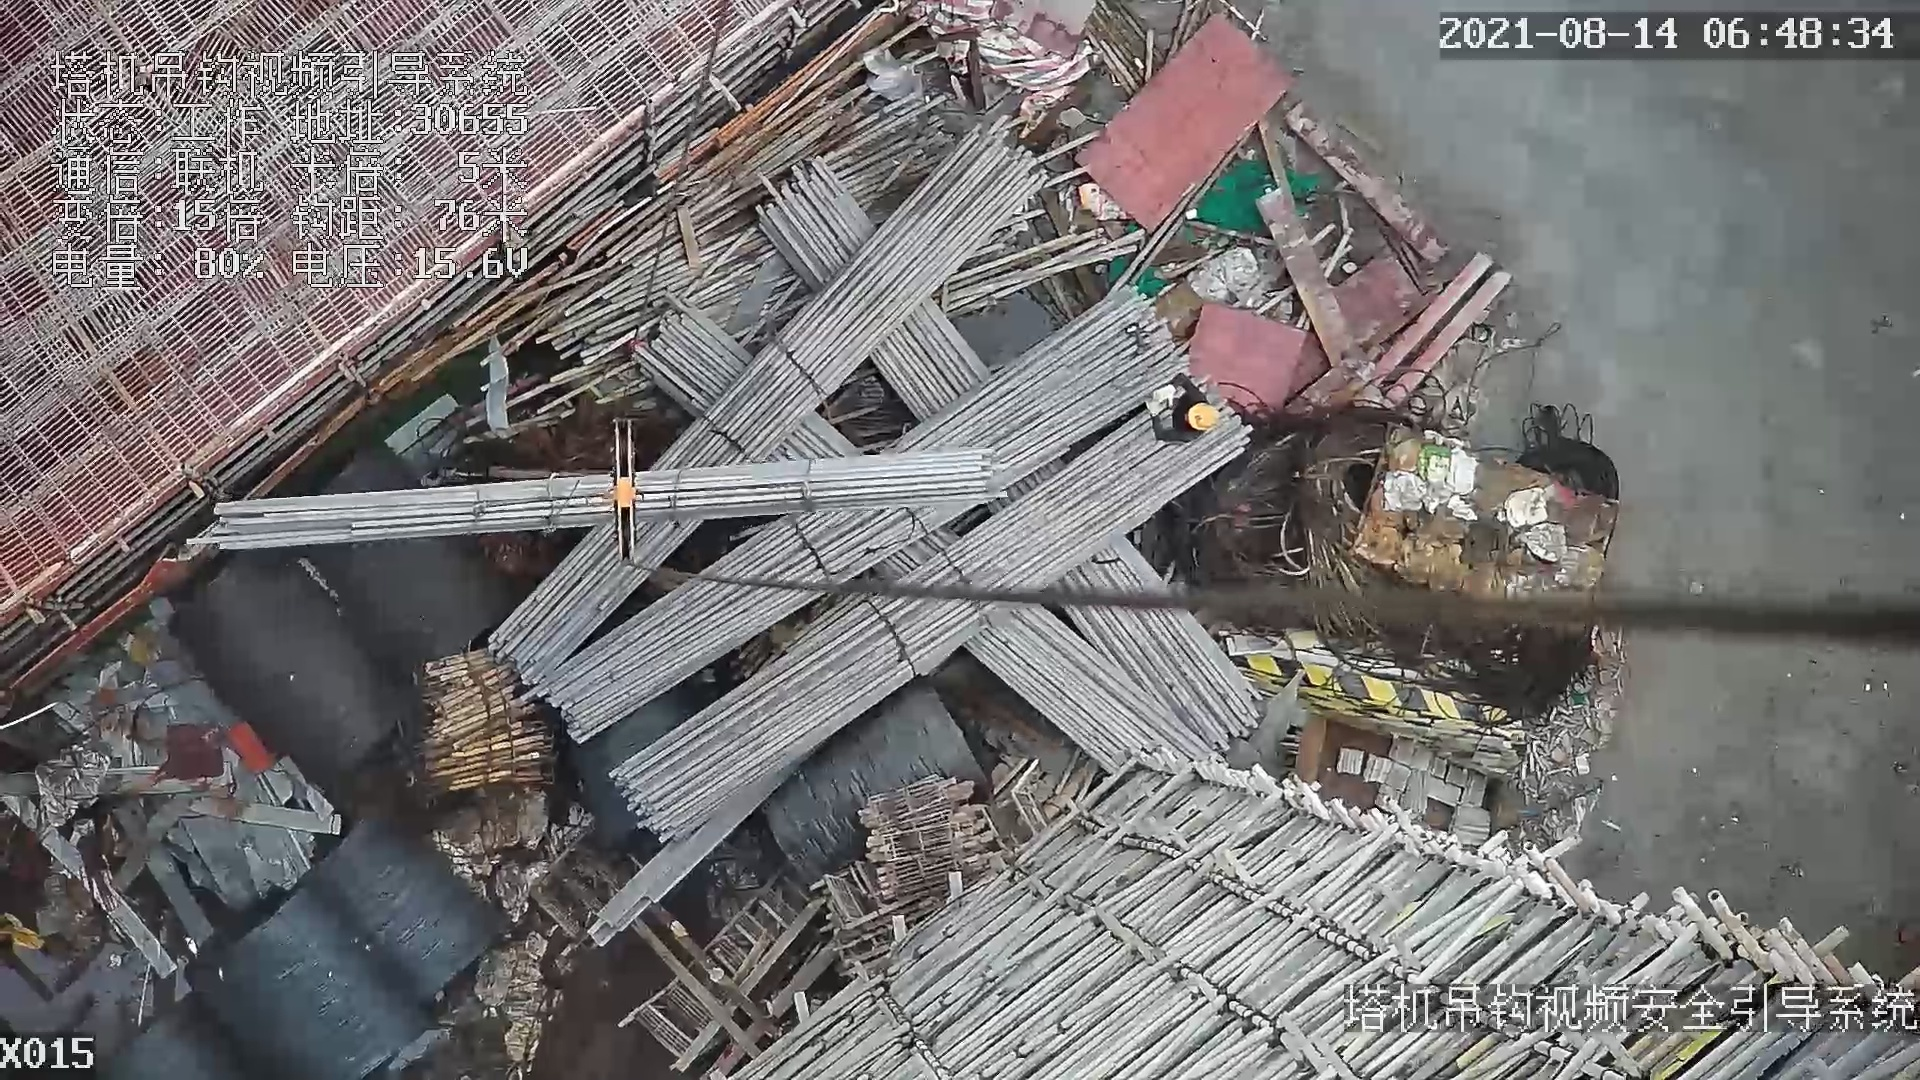board: (1069, 9, 1304, 220)
helmet: (1186, 400, 1222, 432)
hook: (609, 419, 637, 569)
person: (1141, 371, 1222, 442)
scaffold: (411, 649, 555, 793)
